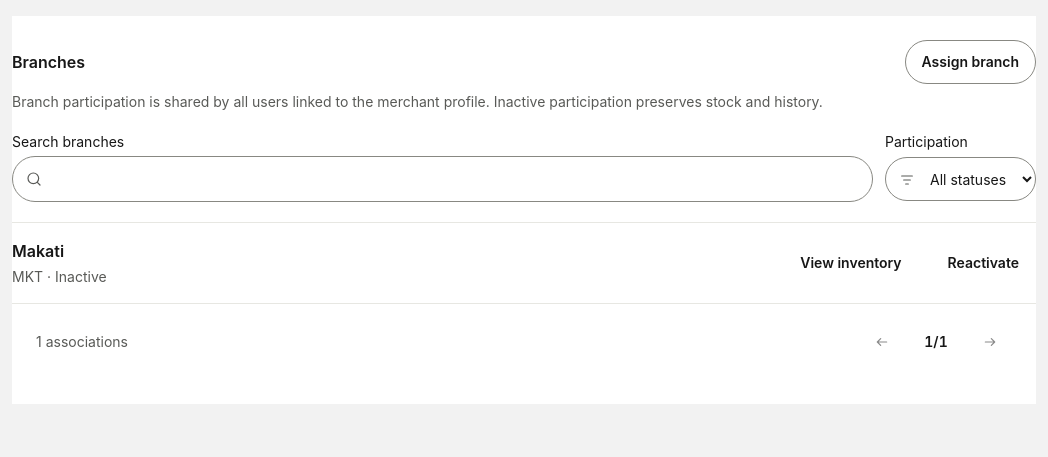
Test: Merchant branch management › shows owner actions, confirms reactivation and refreshes branch access
Click the button "Reactivate" at {"x": 983, "y": 263}, box [931,241,1036,285]
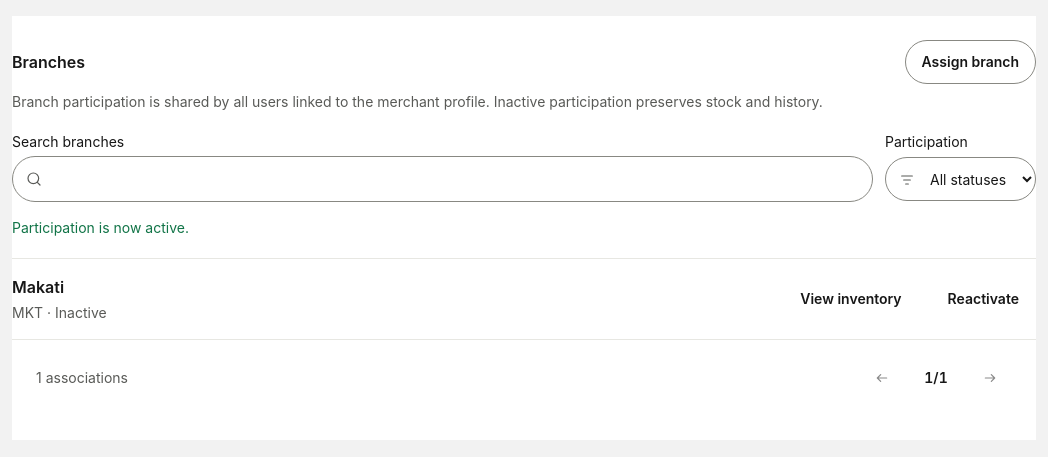
Expected: the text "Participation is now active." is shown, [12,219,189,236]
